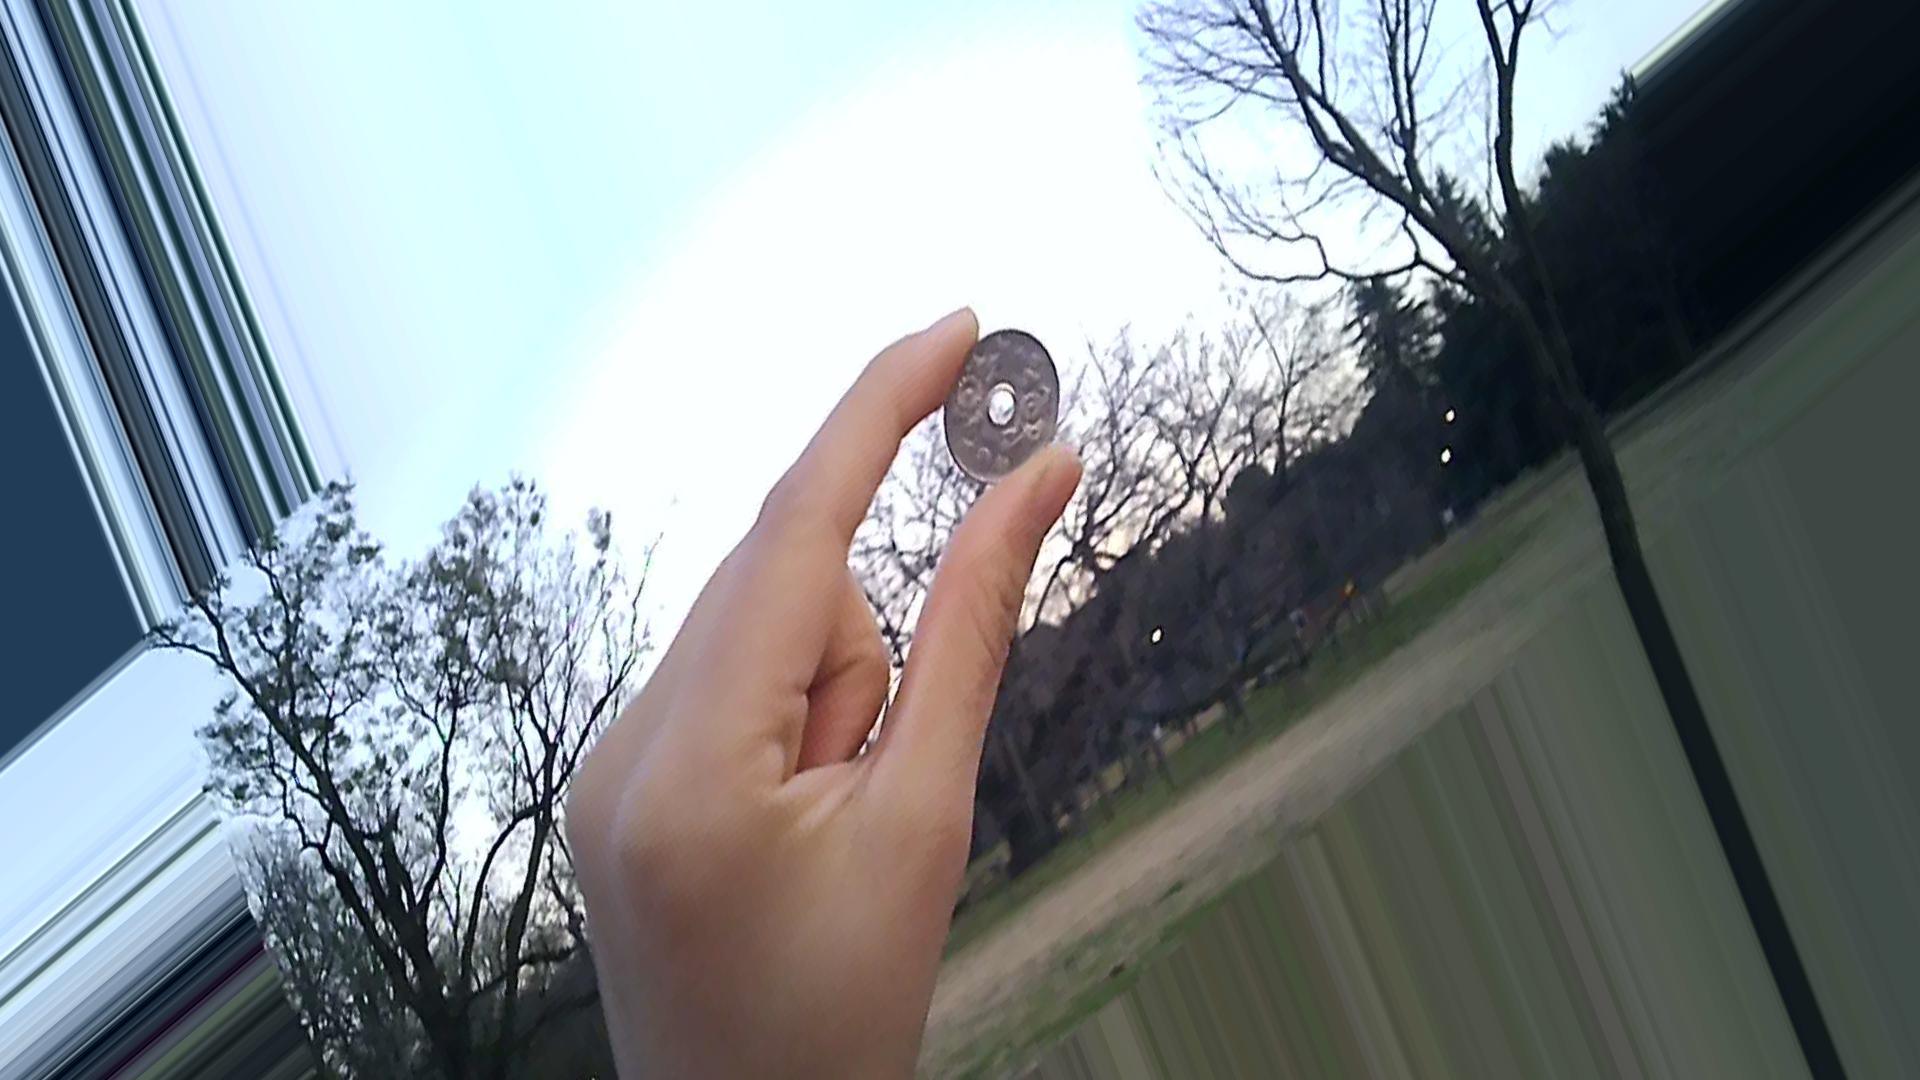50 Yen: (936, 320, 1069, 506)
